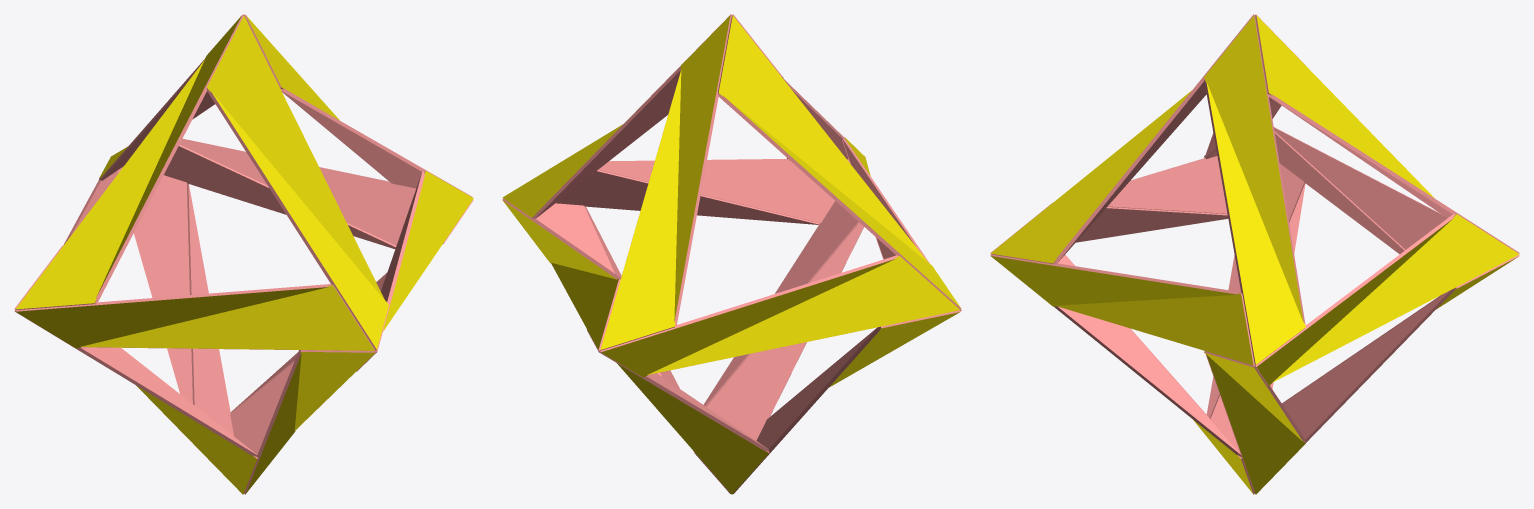
Rendered from Octahedron1.glb.
3 views of the same model, side by side, from view 1: azimuth 30°, elevation 25°; view 2: azimuth 150°, elevation 25°; view 3: azimuth 270°, elevation 25° (orthographic).
Visible parts, largest first — view 1: root; view 2: root; view 3: root.
Boxes of the visible parts, bbox=[...] form: root: bbox=[14, 14, 473, 494]; root: bbox=[502, 14, 961, 494]; root: bbox=[990, 14, 1519, 494].
Bounding box in the file's own units: 1.42 × 1.42 × 1.42.
